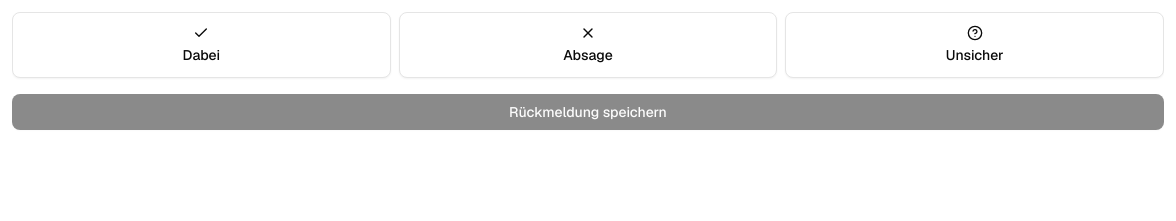
it: RsvpWidget › reveals a decline-reason field only after choosing Absage
Click the button "Absage" at (588, 45), box x1=399 y1=12 x2=777 y2=78
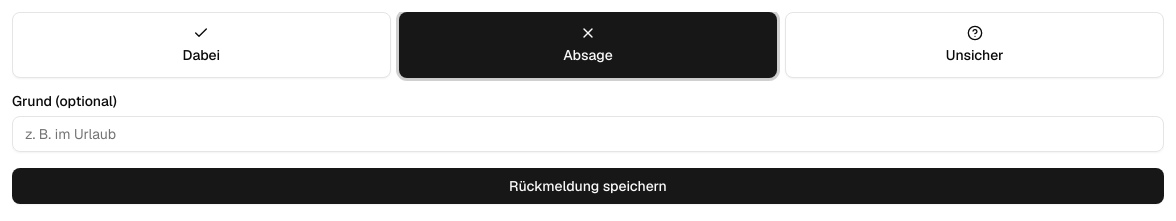
Expected: the field labelled "Grund (optional)" is shown, x1=12 y1=116 x2=1164 y2=152
